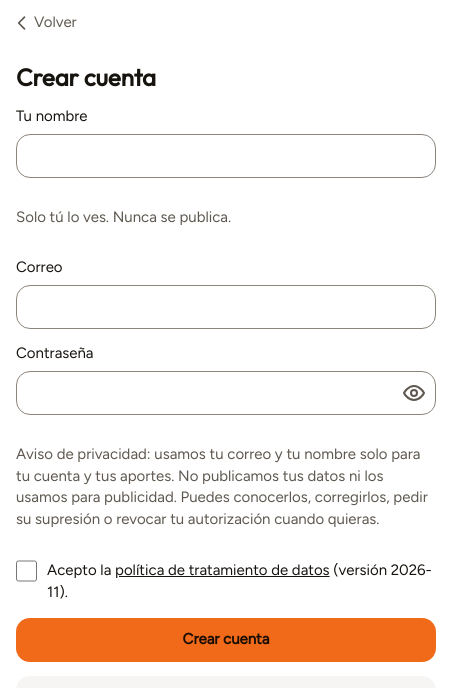
Test: crear cuenta › si el servidor rechaza el registro muestra su mensaje
Step 1. Type "Ana María" into the field labelled "Tu nombre" → {"x": 226, "y": 156}, box 16,134 -> 436,178
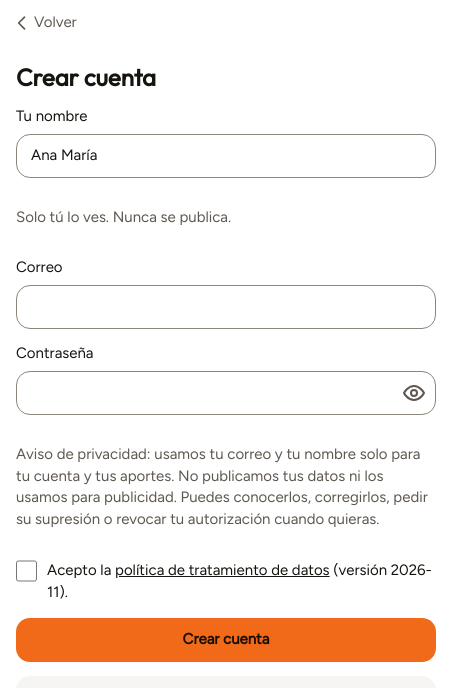
Step 2. Type "ana@correo.co" into the field labelled "Correo" → {"x": 226, "y": 307}, box 16,285 -> 436,329
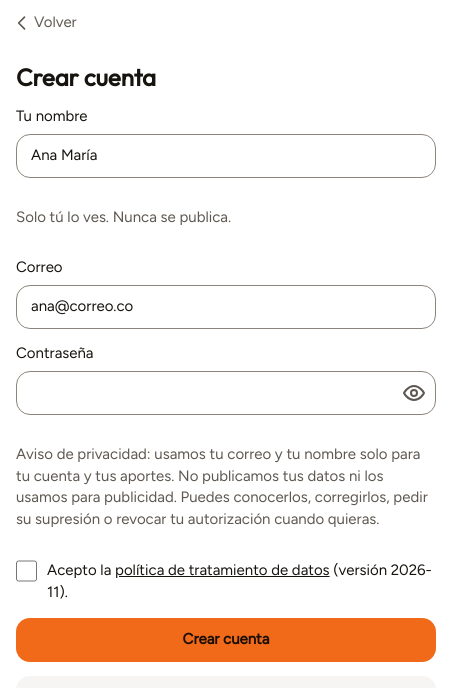
Step 3. Type "una clave larga" into the password field labelled "Contraseña" → {"x": 226, "y": 393}, box 16,371 -> 436,415
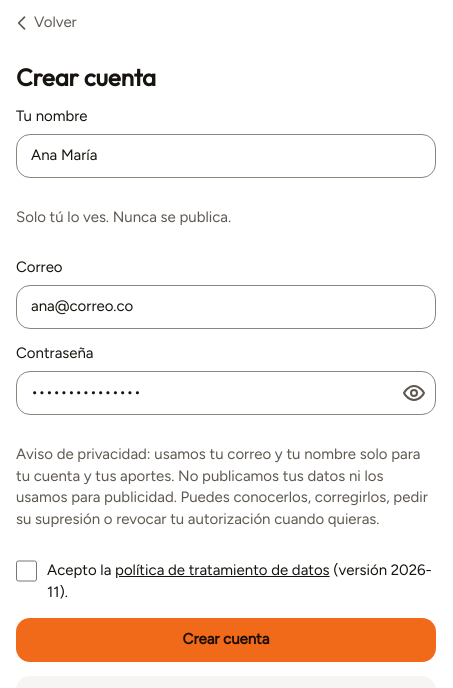
Step 4. Click the checkbox labelled "política de tratamiento de datos" → {"x": 27, "y": 571}, box 16,560 -> 37,582
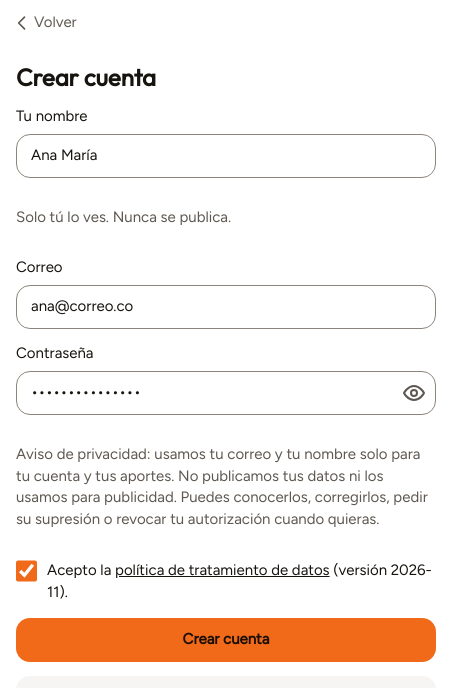
Step 5. Click the button "Crear cuenta" → {"x": 226, "y": 640}, box 16,618 -> 436,662
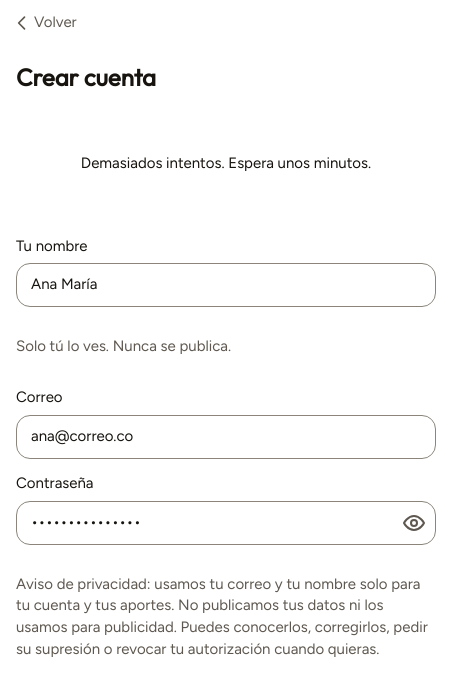
Check: the message reads "Demasiados intentos. Espera unos minutos.", box 81,154 -> 371,172
